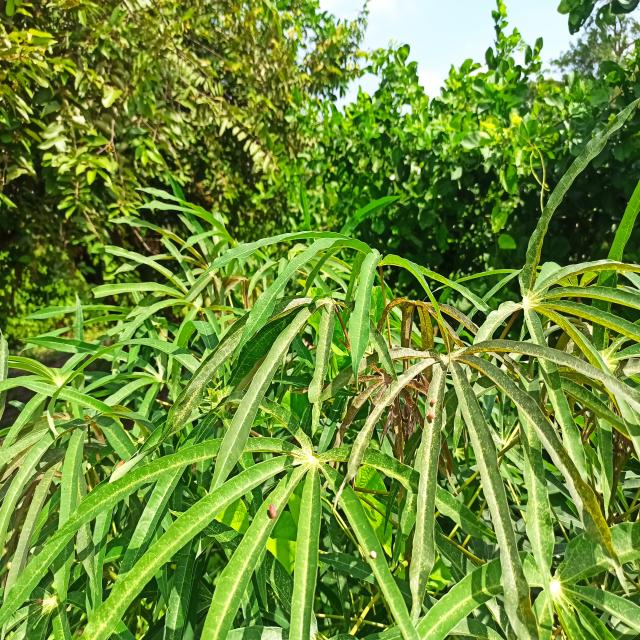Maleza: (0, 0, 325, 188), (354, 78, 628, 217)
Mosca: (393, 547, 416, 575), (261, 496, 280, 523), (368, 541, 387, 568), (426, 394, 442, 426), (0, 555, 22, 576)
